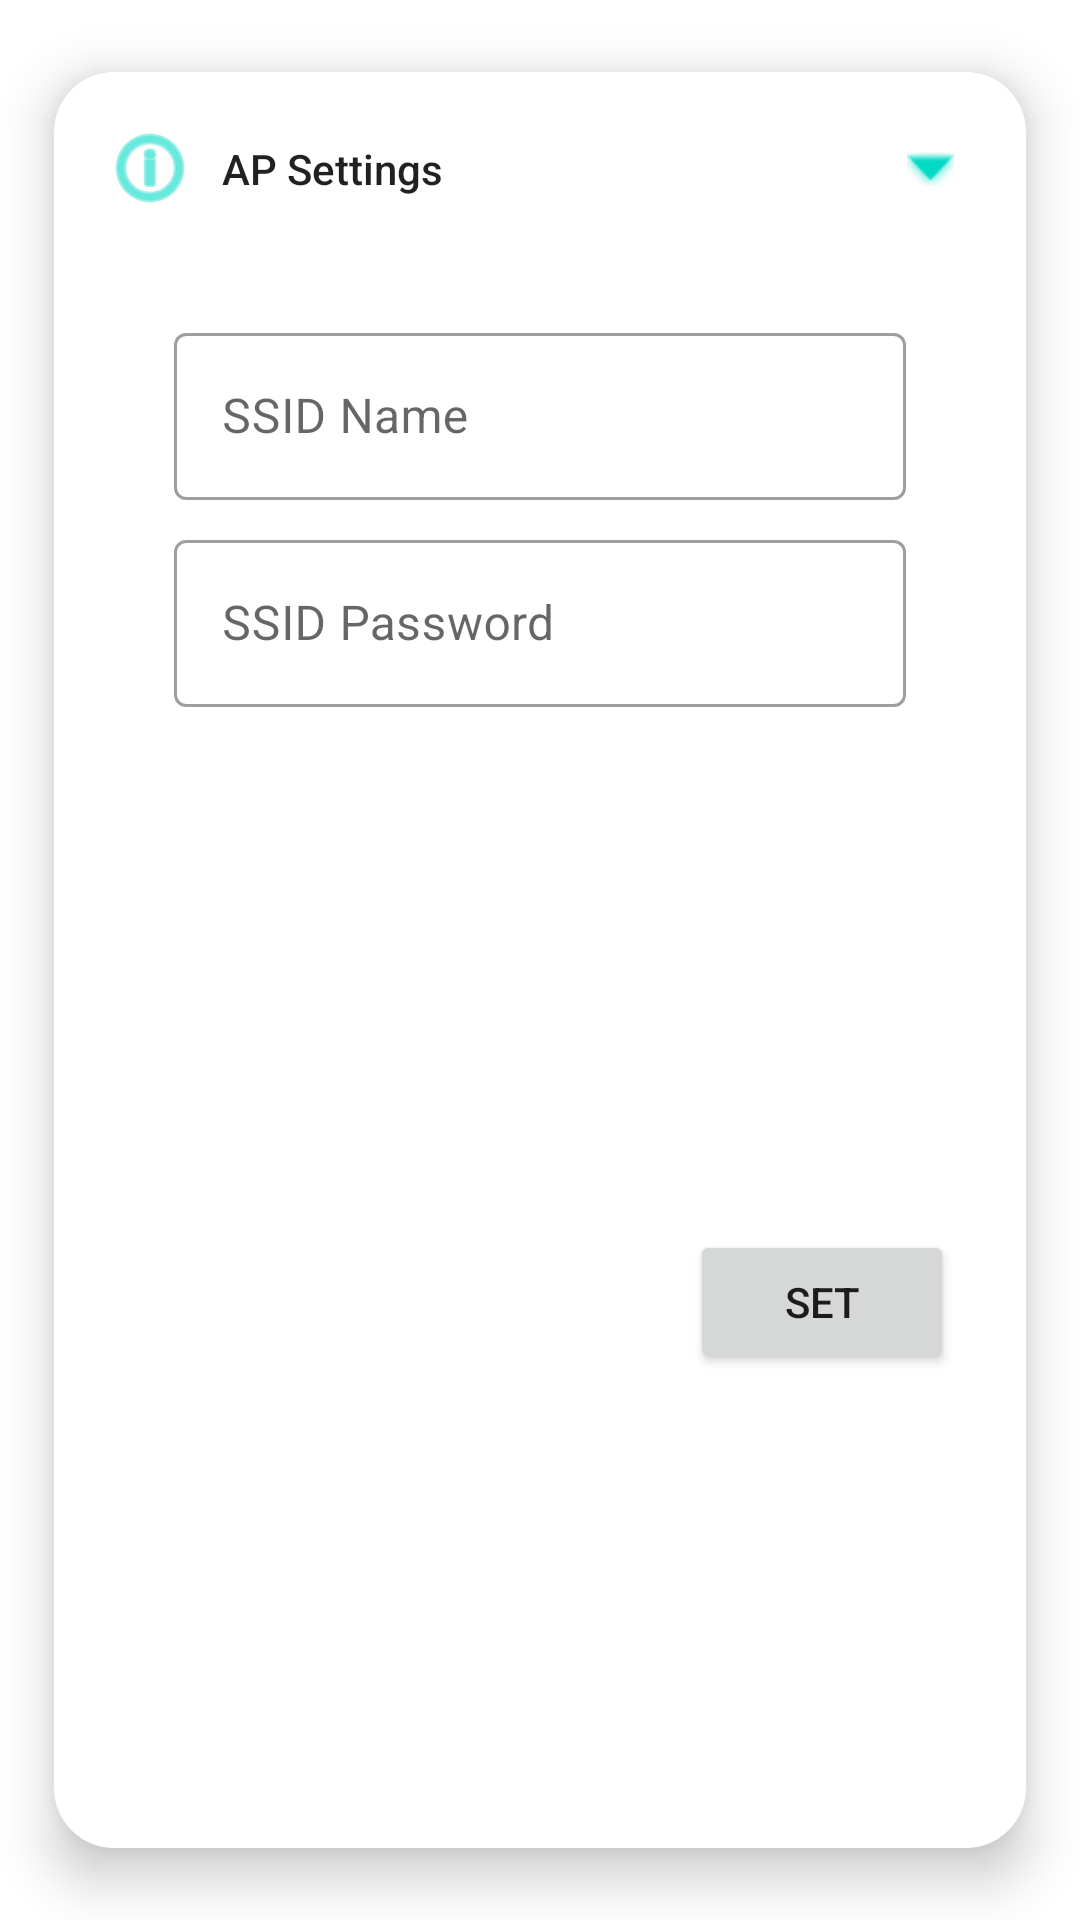

Point at icon controls on the screen. Image size 1080px x 1920px, points as (x=x, y=y).
arrow down float: (x=930, y=169)
info details: (x=150, y=168)
